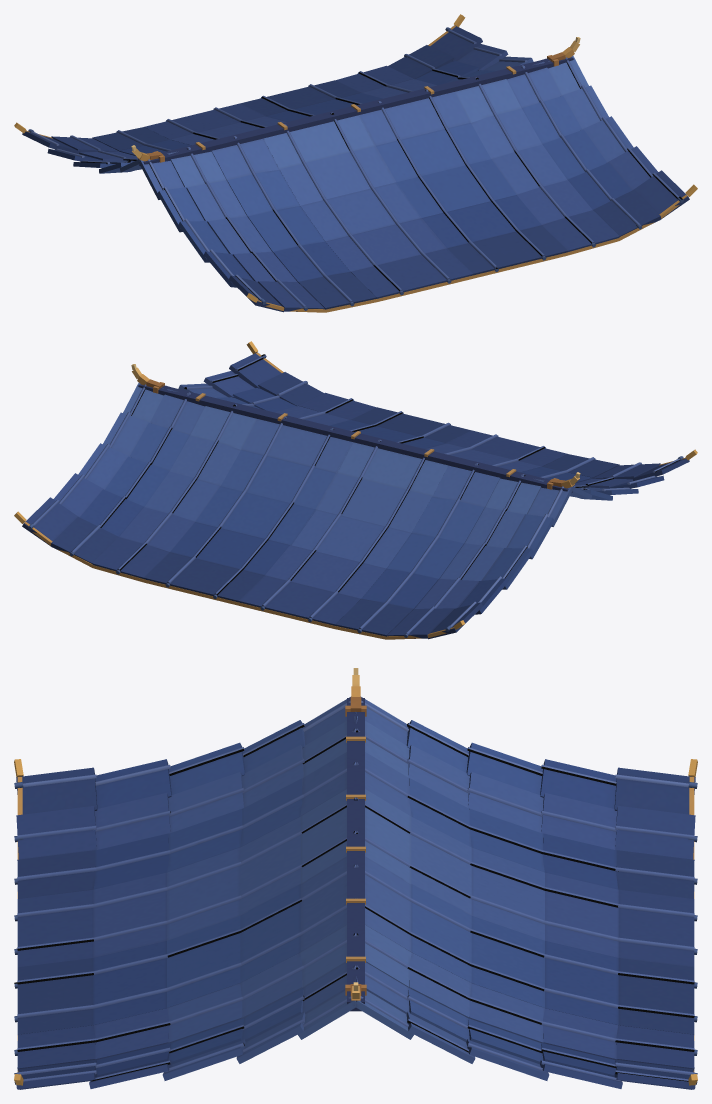
File: Fighting_Ring_Roof_LOD1.glb
The picture shows the model from 3 angles, top to bottom: view 1: azimuth 30°, elevation 25°; view 2: azimuth 150°, elevation 25°; view 3: azimuth 270°, elevation 25°; orthographic projection. The views are drawn at different scales.
Parts seen in each view (by area): view 1: Fighting_Ring_Roof_LOD1; view 2: Fighting_Ring_Roof_LOD1; view 3: Fighting_Ring_Roof_LOD1.
Boxes of the visible parts, x1,y1,x2,y2 form: Fighting_Ring_Roof_LOD1: (14, 14, 697, 312); Fighting_Ring_Roof_LOD1: (14, 341, 697, 639); Fighting_Ring_Roof_LOD1: (14, 668, 697, 1089).
Size of the model in its own units: 43.81 by 9.5 by 39.71.
1 material, 1 textured.
